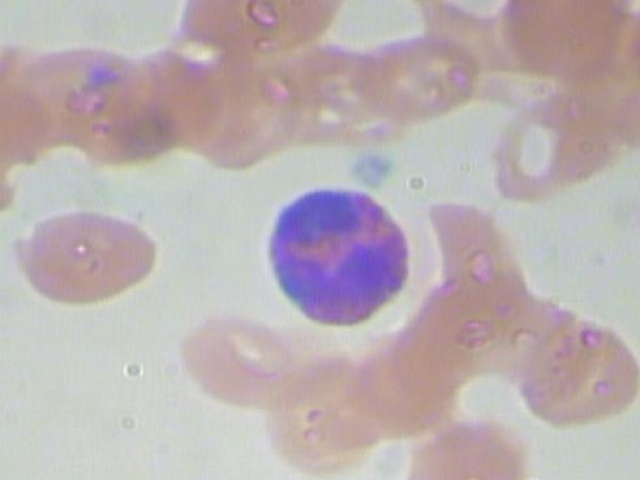RBC: (399, 192, 547, 322), (244, 351, 392, 480), (2, 207, 161, 317), (469, 93, 627, 203), (163, 300, 321, 409), (176, 46, 307, 172), (8, 39, 156, 150), (495, 314, 640, 424), (353, 23, 480, 127), (379, 415, 538, 480), (498, 0, 625, 80), (0, 474, 21, 480)
WBC: (259, 186, 416, 336)
